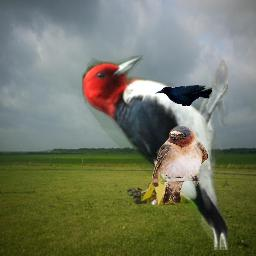Crow: (155, 85, 212, 106)
Swallow: (152, 125, 208, 204)
Woodpecker: (82, 55, 228, 250)
